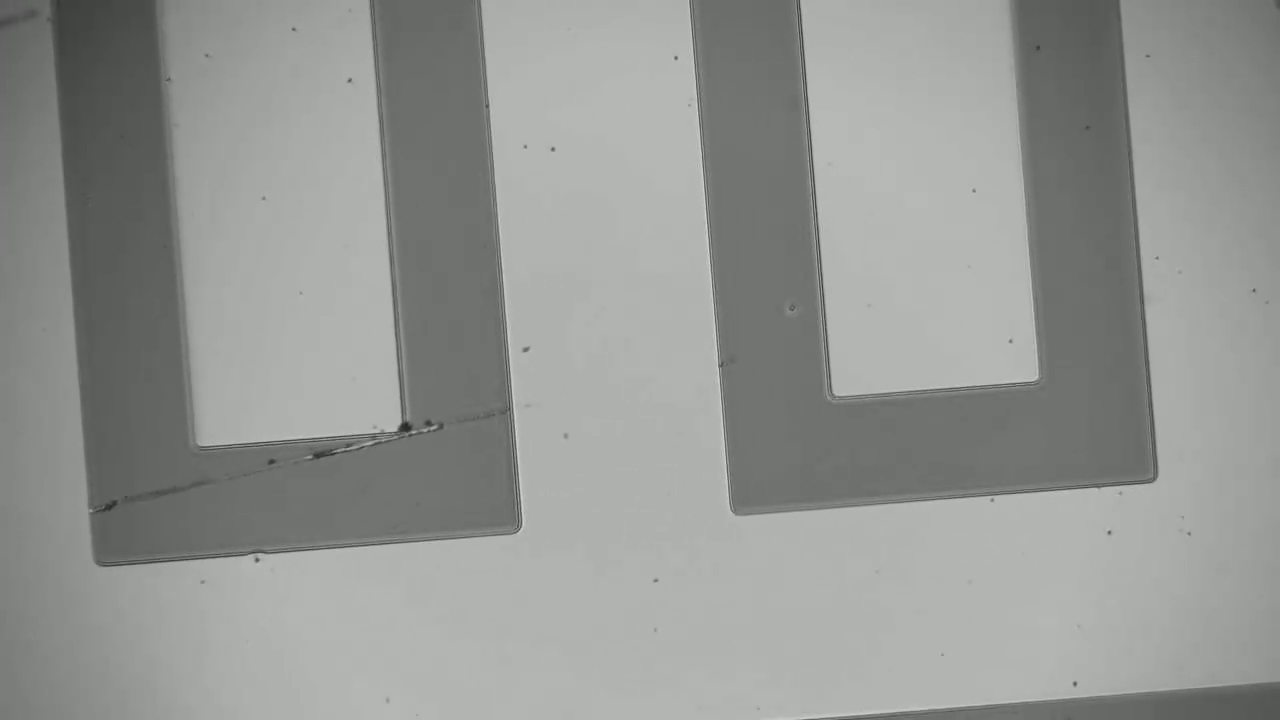scratch: (99, 408, 507, 509)
